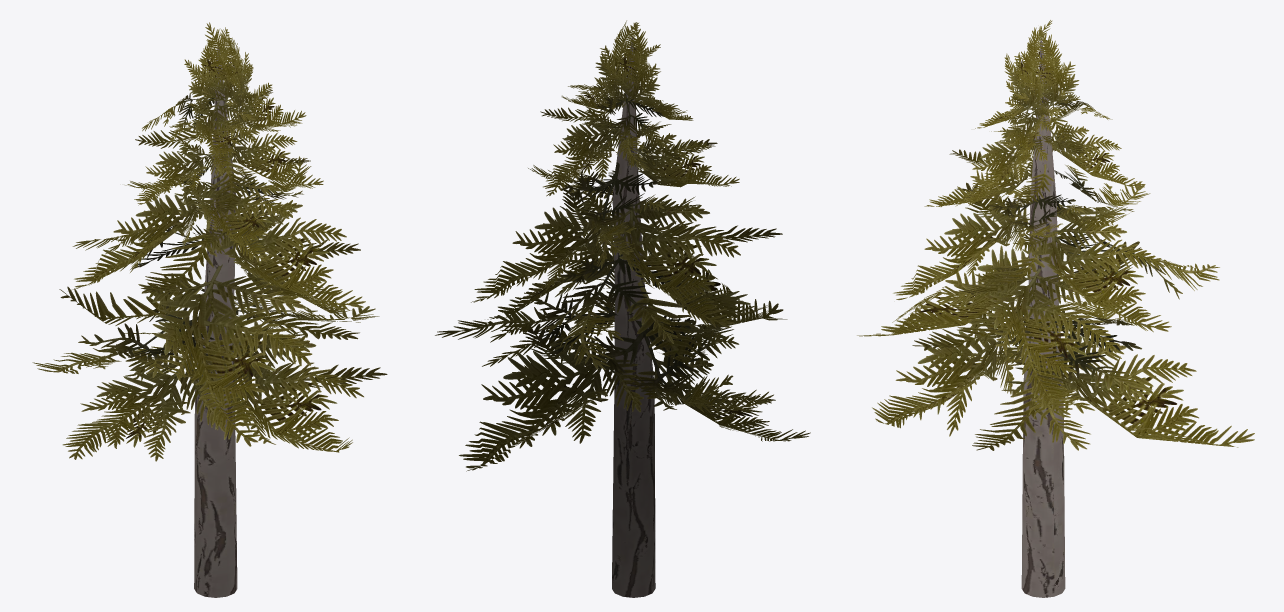
Rendered from m_Tree.fbx.
The picture shows the model from 3 angles, left to right: view 1: azimuth 30°, elevation 25°; view 2: azimuth 150°, elevation 25°; view 3: azimuth 270°, elevation 25°; orthographic projection.
Parts seen in each view (by area): view 1: arbol; view 2: arbol; view 3: arbol.
Part boxes in pixels (left/top/right/bottom): arbol: left=32, top=22, right=387, bottom=597; arbol: left=435, top=20, right=810, bottom=597; arbol: left=857, top=20, right=1254, bottom=597.
Bounding box in the file's own units: 9.52 × 14.15 × 9.39.
